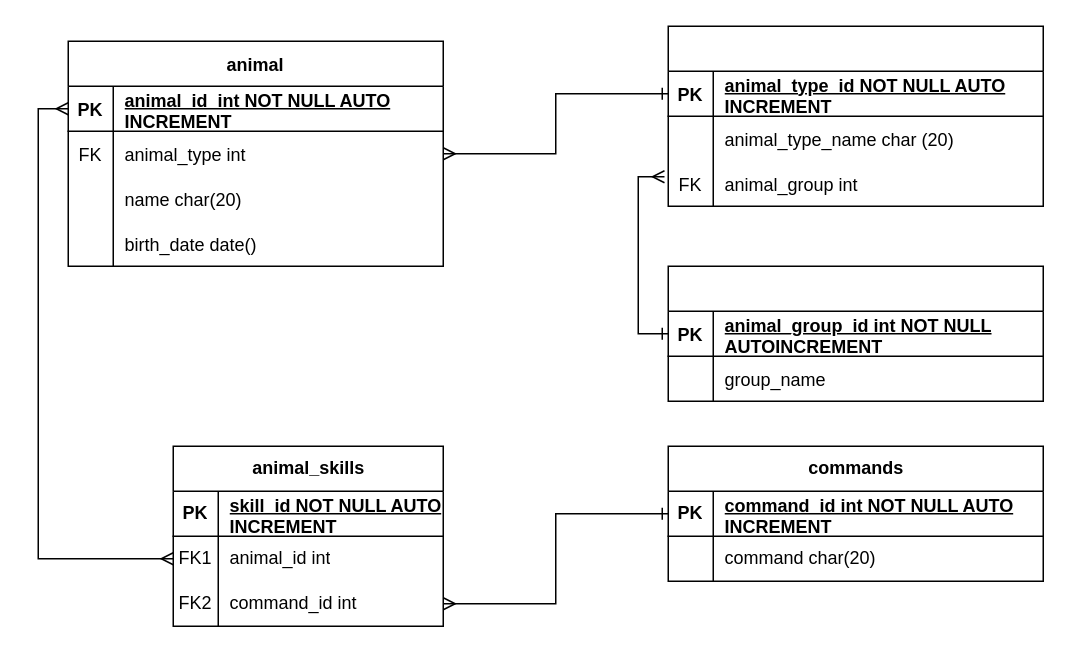
Image size: 1070x653. Some labels were removed from this diagram. The box of each missing label's shape, as (x1, y1, x2, y2) in pixels:
animal_groups: (667, 265, 1043, 401)
animal_types: (667, 25, 1043, 206)
